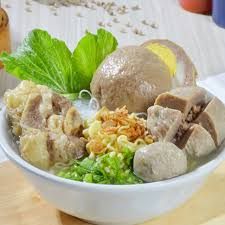bakso: (8, 38, 215, 189)
